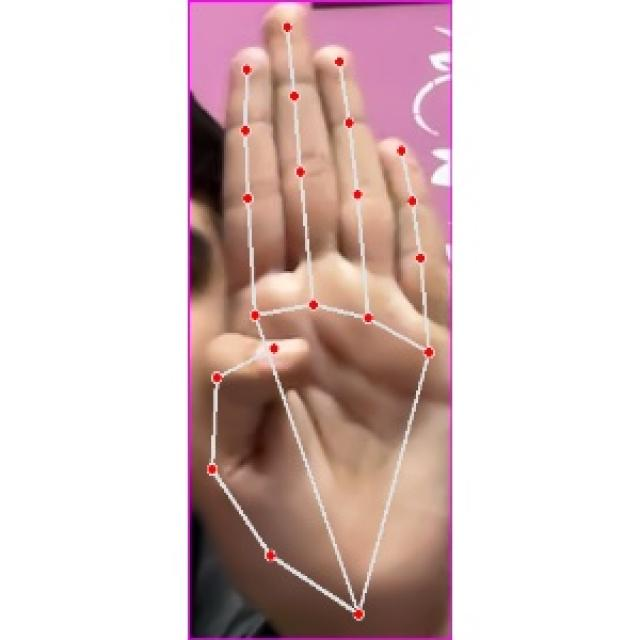B: (191, 0, 453, 638)
